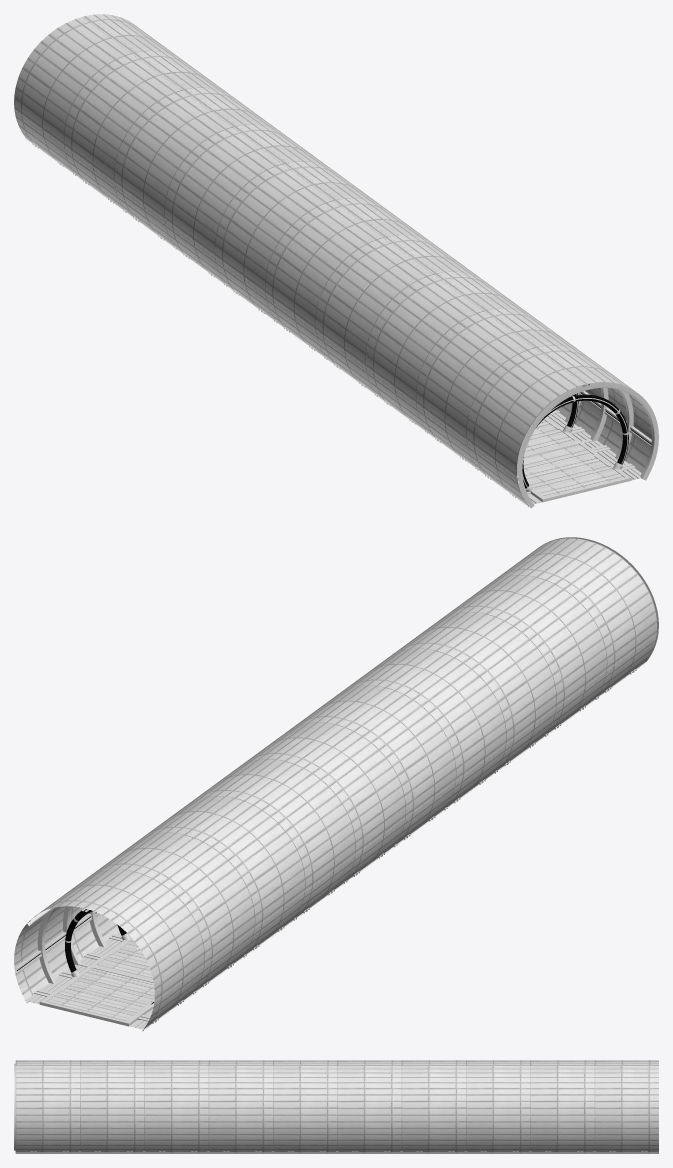
The model's file is FutureTunnel.fbx.
The picture shows the model from 3 angles, top to bottom: view 1: azimuth 30°, elevation 25°; view 2: azimuth 150°, elevation 25°; view 3: azimuth 270°, elevation 25°; orthographic projection. The views are drawn at different scales.
Parts seen in each view (by area): view 1: Tunnel.Shape, TunnelFloor.Shape, TubeLights.Shape; view 2: Tunnel.Shape, TunnelFloor.Shape; view 3: Tunnel.Shape, TunnelFloor.Shape.
Part boxes in pixels (x1,y1,x2,y2): Tunnel.Shape: [14, 14, 658, 508]; TunnelFloor.Shape: [25, 138, 641, 505]; TubeLights.Shape: [522, 393, 628, 491]; Tunnel.Shape: [14, 537, 658, 1031]; TunnelFloor.Shape: [25, 662, 646, 1029]; Tunnel.Shape: [14, 1060, 658, 1153]; TunnelFloor.Shape: [16, 1151, 658, 1152].
Size of the model in its own units: 474 by 351 by 2938.
Materials: 8 (6 with a texture image).
